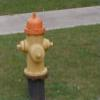Hydrant: (10, 8, 65, 100)
